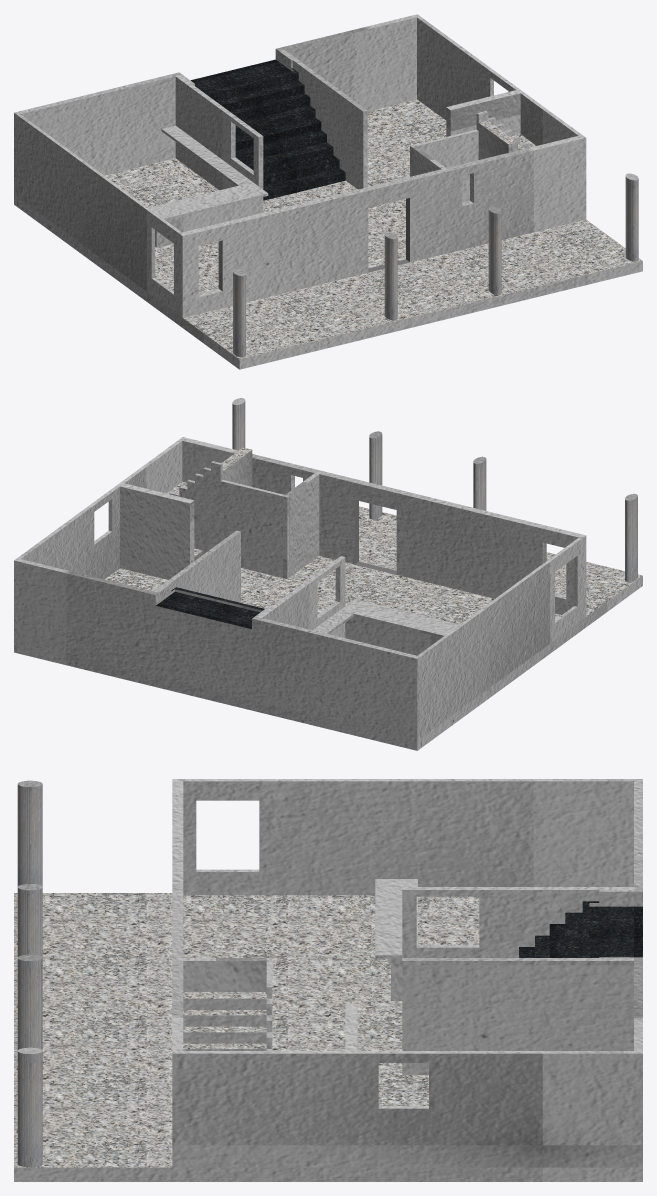
File: Primer_Piso.obj
3 renders of one model, top to bottom at view 1: azimuth 30°, elevation 25°; view 2: azimuth 150°, elevation 25°; view 3: azimuth 270°, elevation 25°, orthographic. The views are drawn at different scales.
Parts seen in each view (by area): view 1: Cuadro:polySurface7; view 2: Cuadro:polySurface7; view 3: Cuadro:polySurface7.
Boxes of the visible parts, <box> form: Cuadro:polySurface7: <box>14,14,642,369</box>; Cuadro:polySurface7: <box>14,398,642,750</box>; Cuadro:polySurface7: <box>14,779,642,1181</box>.
Size of the model in its own units: 10.33 by 2.65 by 10.
5 materials, 4 textured.
